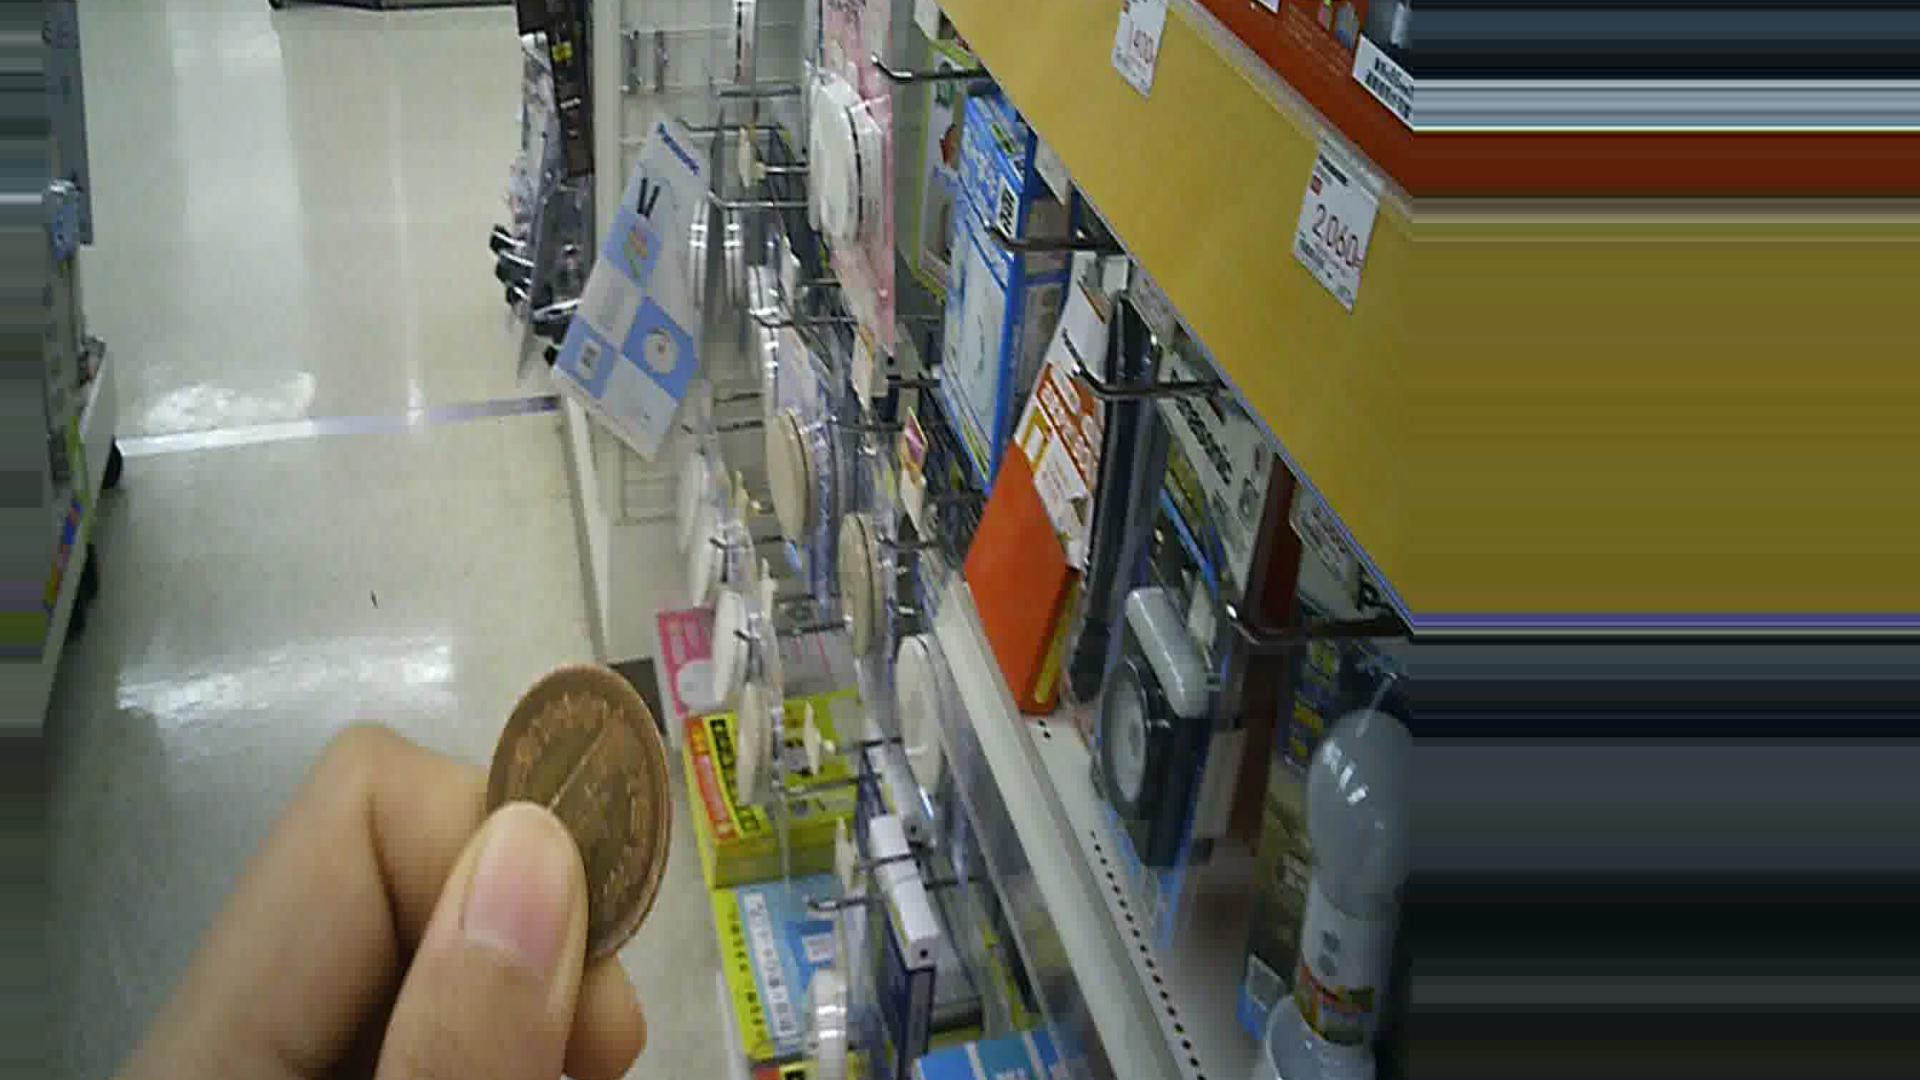10 Yen: (481, 653, 663, 971)
